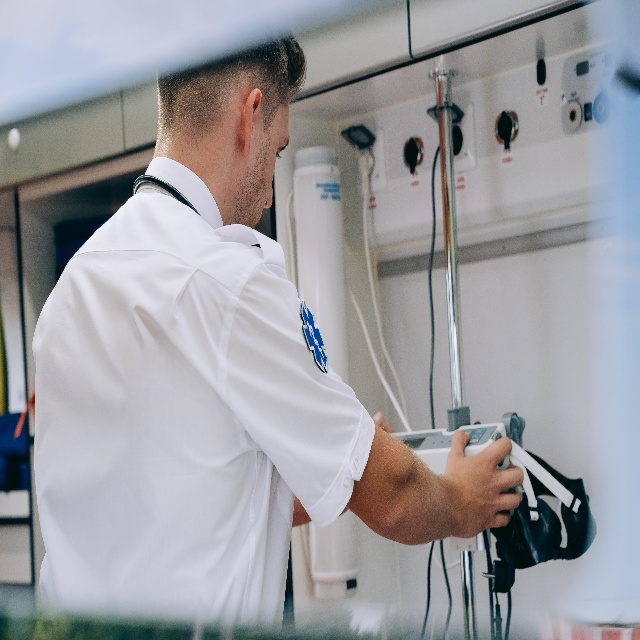Sin_guantes: (441, 431, 522, 532)
